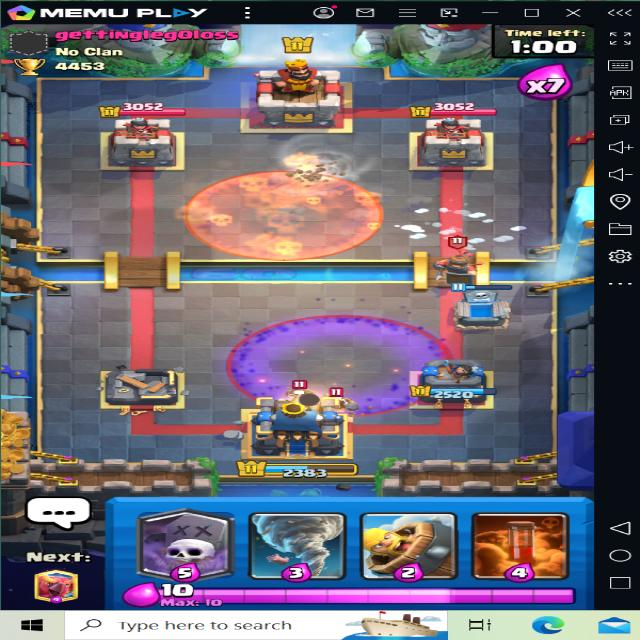Graveyard: (230, 307, 452, 417)
Poison: (180, 164, 381, 262)
Royalrecruits: (421, 240, 489, 290)
Tornado: (268, 131, 374, 189)
